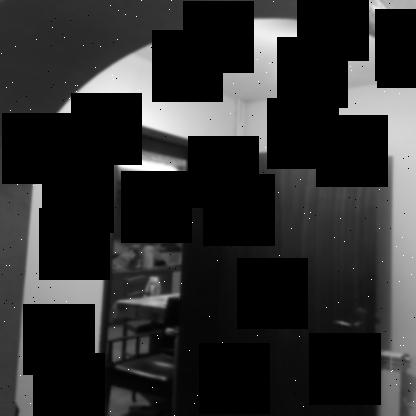Porte: (95, 117, 385, 415)
